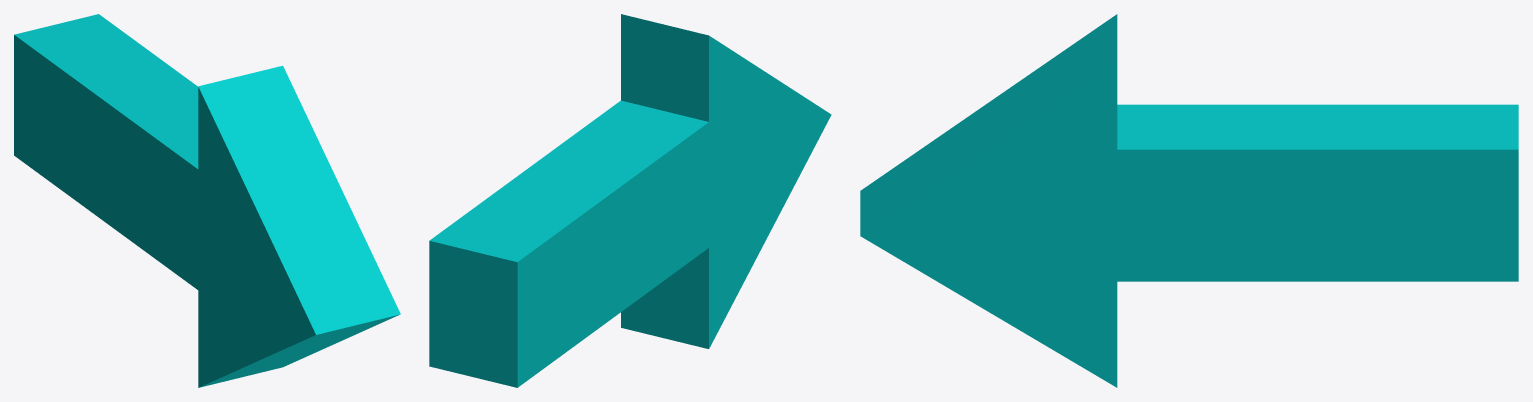
File: Arrow.fbx
3 views of the same model, side by side, from view 1: azimuth 30°, elevation 25°; view 2: azimuth 150°, elevation 25°; view 3: azimuth 270°, elevation 25° (orthographic). The views are drawn at different scales.
Parts seen in each view (by area): view 1: Component_1_1; view 2: Component_1_1; view 3: Component_1_1.
Part boxes in pixels (<box>): Component_1_1: <box>14,14,400,387</box>; Component_1_1: <box>429,14,831,387</box>; Component_1_1: <box>860,14,1518,387</box>.
Bounding box in the file's own units: 31.5 × 107 × 194.
